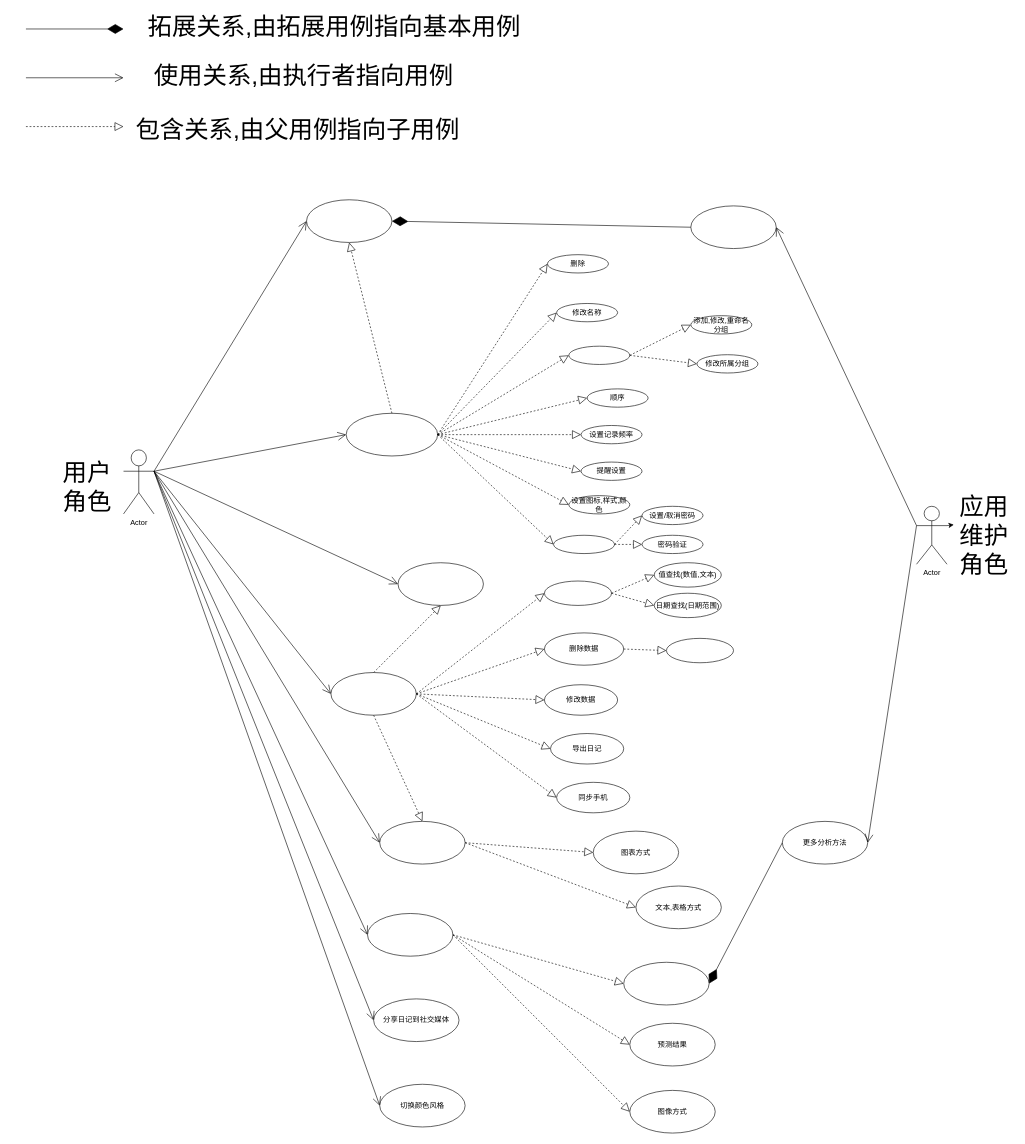
Image size: 1025x1144. Some labels were removed from this diagram. The shapes that lost their labels are listed below. From the top down, each one's box as (x1, y1, x2, y2) in pixels, then its label:
(306, 199, 392, 242): 新建记录项
(690, 205, 776, 249): 更多记录项
(568, 346, 630, 364): 分组管理
(346, 413, 438, 456): 编辑记录项
(553, 535, 615, 554): 密码管理
(397, 562, 483, 605): 记录数据
(544, 580, 612, 605): 查找数据
(666, 638, 734, 663): 还原功能
(330, 672, 416, 715): 管理记录的数据
(379, 821, 465, 864): 显示数据
(367, 913, 453, 956): 查看分析结果
(623, 962, 709, 1005): 数据分析结果
